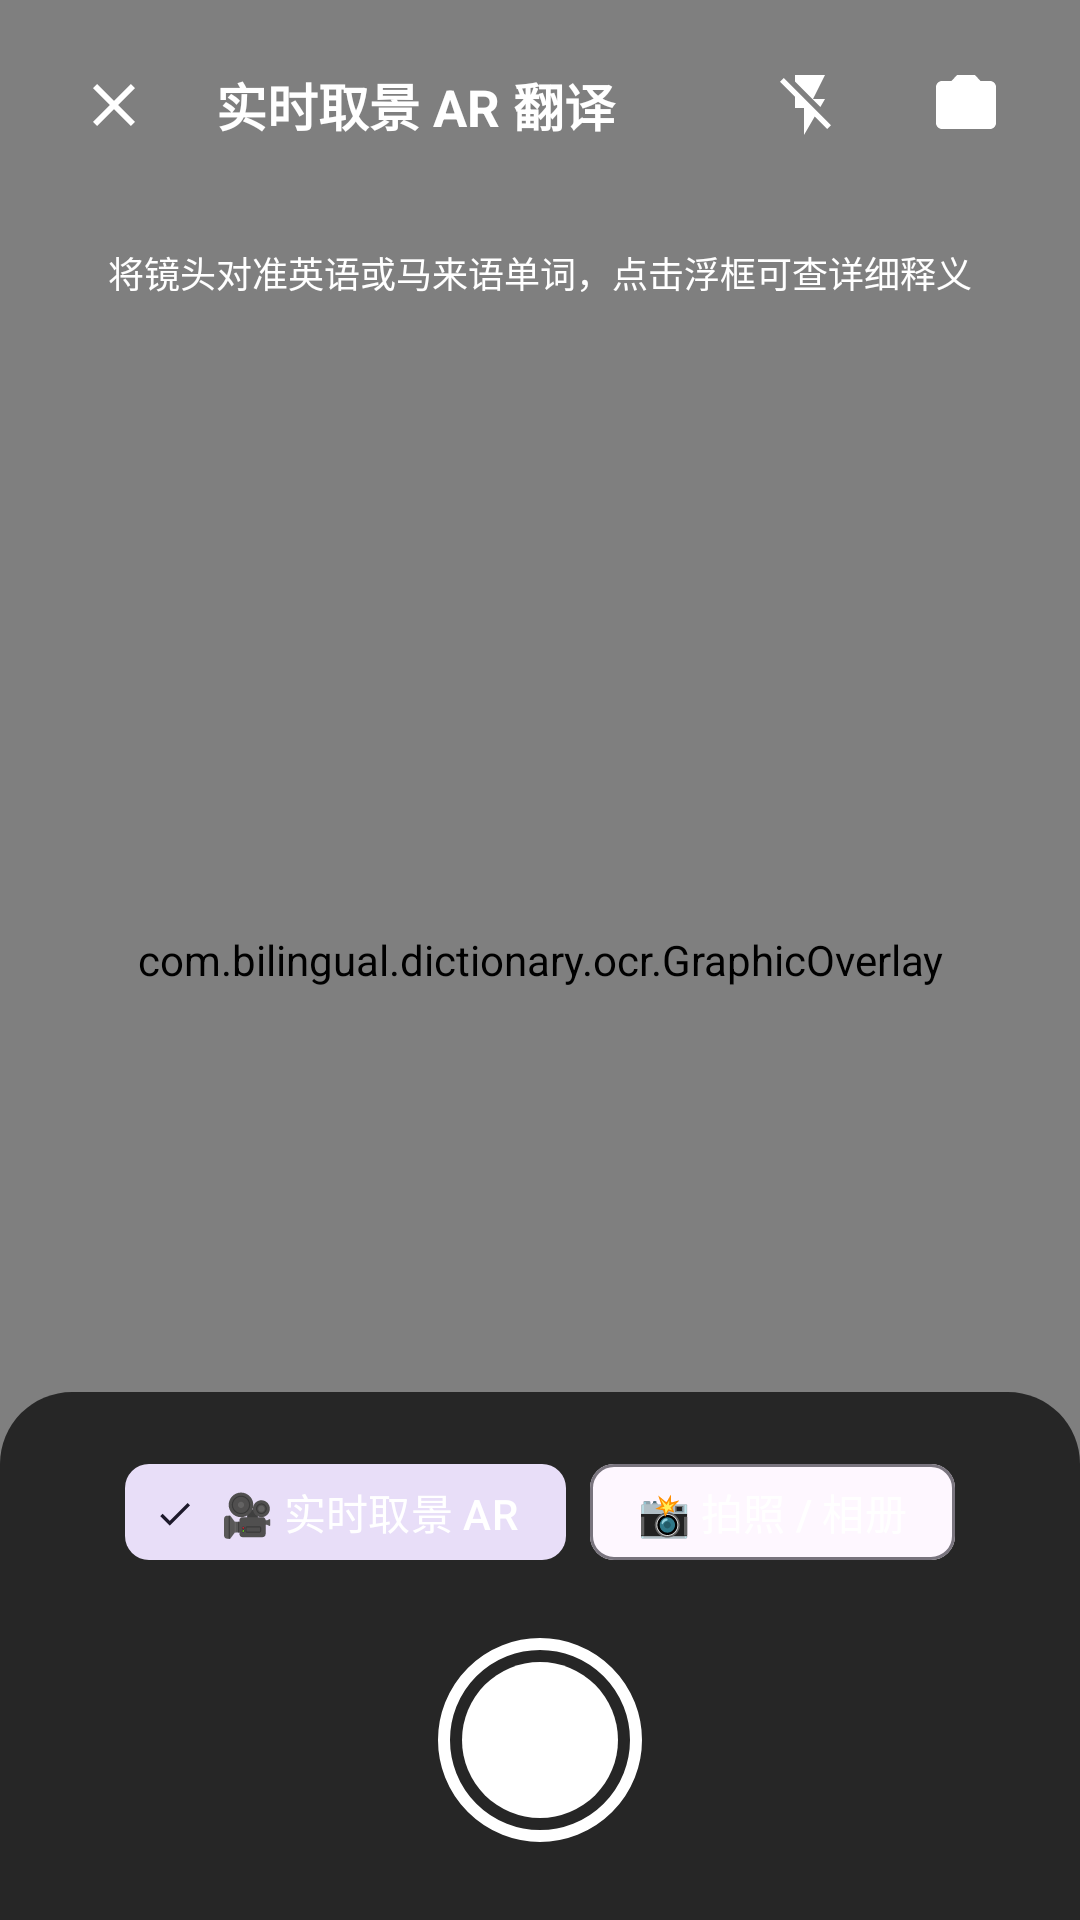

Named icons in this screenshot (1080px×1920px) and their bounding boxes, (x1, y1, x2, y2):
返回: (93, 84, 135, 126)
闪光灯: (780, 75, 831, 135)
